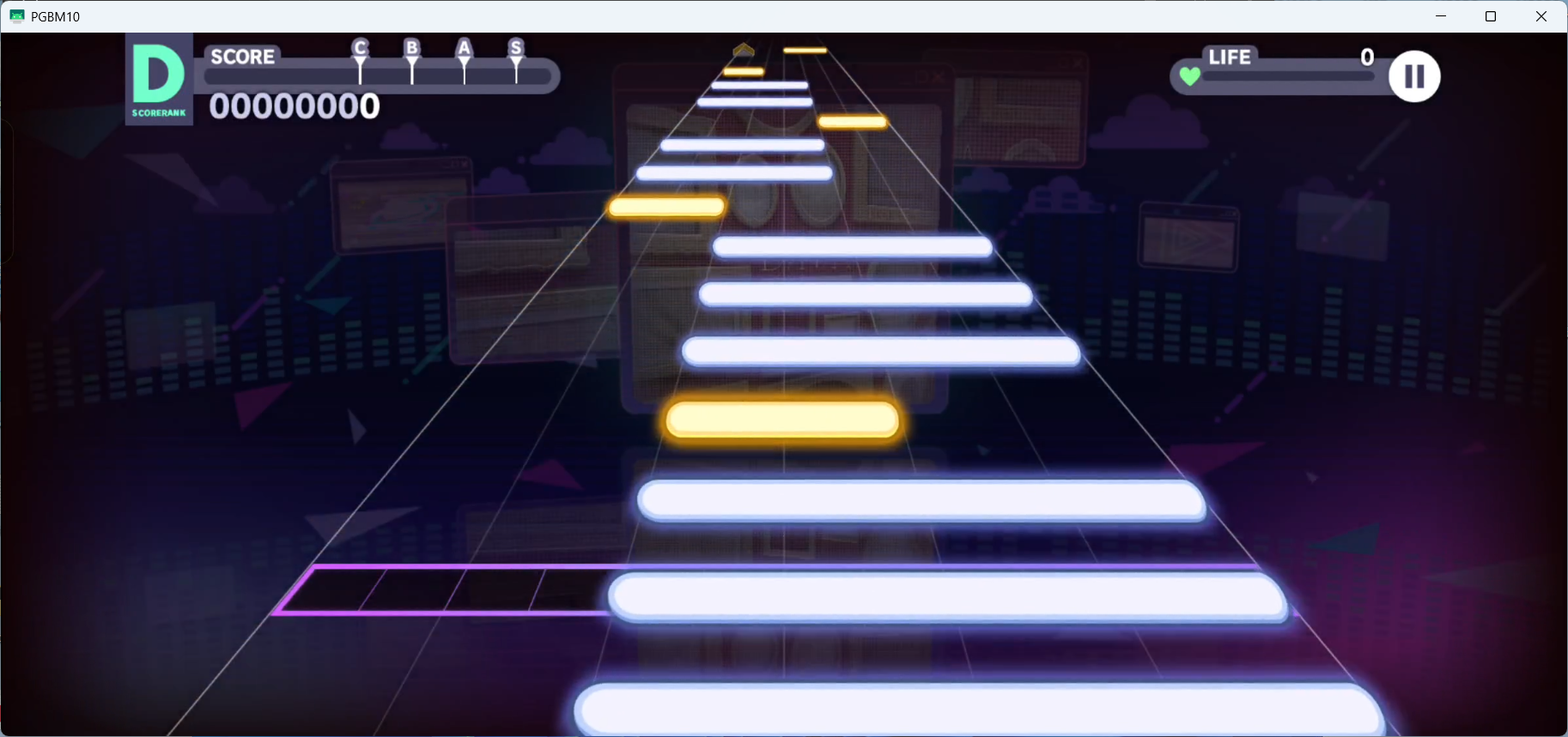flick: (732, 41, 755, 57)
tap: (569, 683, 1386, 735), (605, 572, 1290, 625), (636, 479, 1206, 523), (682, 336, 1081, 368), (666, 402, 900, 439), (700, 283, 1032, 306), (712, 237, 992, 258), (636, 166, 832, 180), (659, 138, 824, 152), (610, 197, 723, 215), (696, 98, 812, 106), (818, 116, 885, 128), (710, 82, 808, 89), (723, 68, 763, 76), (783, 48, 827, 54)
